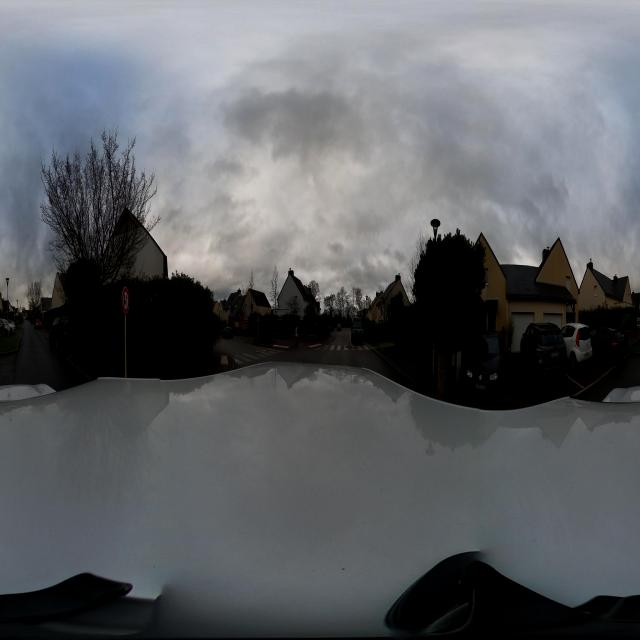car: (528, 324, 567, 393), (465, 331, 504, 399), (590, 324, 628, 365), (562, 322, 593, 367), (56, 318, 72, 350), (351, 317, 364, 345), (49, 321, 59, 346), (4, 318, 16, 336), (222, 325, 234, 339), (34, 318, 42, 330)
